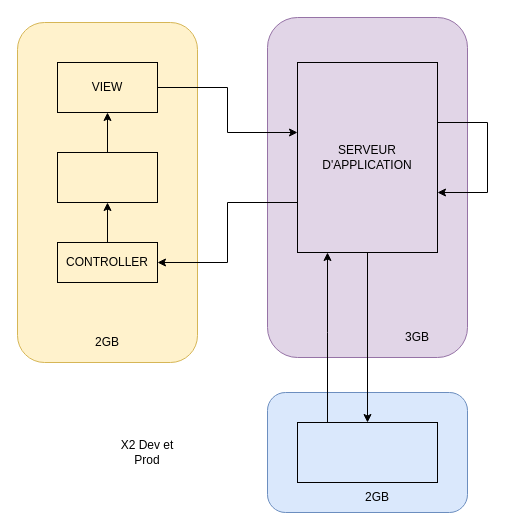
Some shapes in this 513 by 530 pixel diagram are drawn without their labels. Each missing label, with the box of its shape:
BDD: (296, 422, 438, 482)
MODEL: (56, 152, 158, 202)
